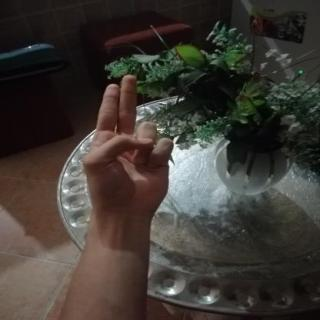TA: (69, 66, 187, 230)
